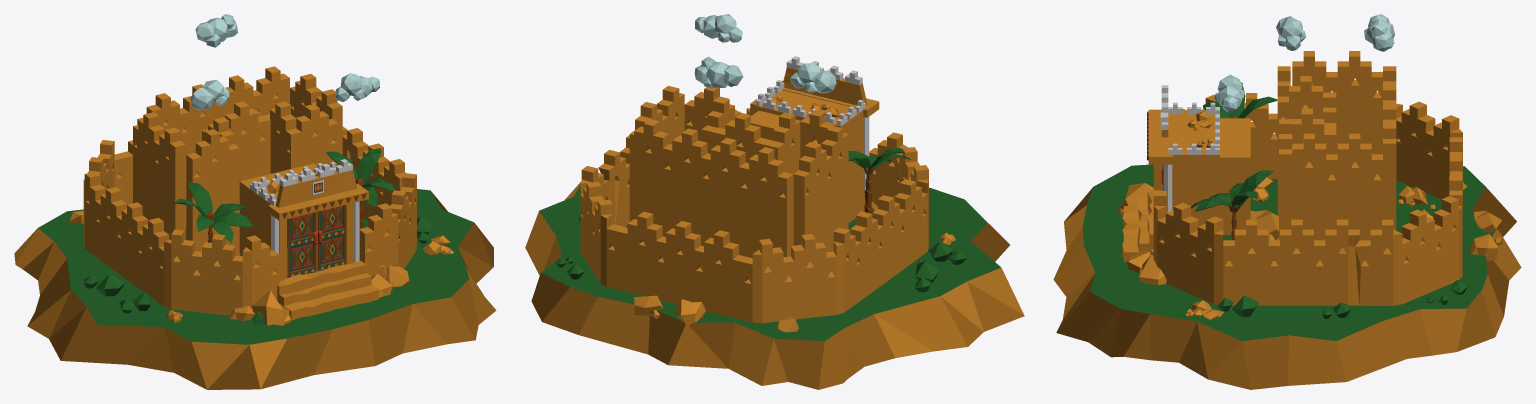
The model's file is historic_Diriyah.dae.
3 renders of one model, left to right at view 1: azimuth 30°, elevation 25°; view 2: azimuth 150°, elevation 25°; view 3: azimuth 270°, elevation 25°, orthographic. The views are drawn at different scales.
Visible parts, largest first — view 1: Madain_Saleh1_polySurface3045, pCube69, pCube83, pSphere88, pCube27, Cloud_4, polySurface38, polySurface45, pSphere72_ncl1_1, pCube72, pCube4, pSphere50; view 2: Madain_Saleh1_polySurface3045, pCube69, pCube83, pSphere88, Cloud_4, polySurface45, polySurface38, pSphere82, pSphere72; view 3: Madain_Saleh1_polySurface3045, pCube69, pCube83, pSphere88, pCube27, Cloud_4, polySurface38, polySurface45, pSphere72, Madain_Saleh1_pSphere74, pSphere71, pSphere72_ncl1_1 (+2 smaller).
Boxes of the visible parts, left/top/right/bottom form: Madain_Saleh1_polySurface3045: left=14, top=189, right=496, bottom=389; pCube69: left=83, top=126, right=416, bottom=315; pCube83: left=133, top=66, right=342, bottom=270; pSphere88: left=239, top=159, right=368, bottom=280; pCube27: left=277, top=261, right=378, bottom=320; Cloud_4: left=195, top=14, right=237, bottom=47; polySurface38: left=335, top=73, right=379, bottom=101; polySurface45: left=190, top=80, right=229, bottom=110; pSphere72_ncl1_1: left=252, top=290, right=289, bottom=325; pCube72: left=357, top=148, right=381, bottom=183; pCube4: left=188, top=182, right=212, bottom=215; pSphere50: left=96, top=274, right=124, bottom=296; Madain_Saleh1_polySurface3045: left=525, top=182, right=1024, bottom=389; pCube69: left=580, top=99, right=928, bottom=323; pCube83: left=629, top=85, right=848, bottom=276; pSphere88: left=751, top=56, right=879, bottom=222; Cloud_4: left=694, top=56, right=743, bottom=88; polySurface45: left=790, top=63, right=836, bottom=93; polySurface38: left=695, top=14, right=742, bottom=42; pSphere82: left=674, top=299, right=705, bottom=325; pSphere72: left=633, top=295, right=663, bottom=315; Madain_Saleh1_polySurface3045: left=1053, top=164, right=1521, bottom=389; pCube69: left=1153, top=93, right=1462, bottom=305; pCube83: left=1277, top=51, right=1396, bottom=260; pSphere88: left=1147, top=85, right=1250, bottom=234; pCube27: left=1122, top=188, right=1161, bottom=262; Cloud_4: left=1364, top=14, right=1394, bottom=51; polySurface38: left=1214, top=74, right=1244, bottom=112; polySurface45: left=1276, top=16, right=1305, bottom=50; pSphere72: left=1469, top=234, right=1497, bottom=261; Madain_Saleh1_pSphere74: left=1250, top=210, right=1278, bottom=240; pSphere71: left=1139, top=255, right=1166, bottom=284; pSphere72_ncl1_1: left=1117, top=183, right=1153, bottom=210.
Bounding box in the file's own units: 18.26 × 9.45 × 15.6.
